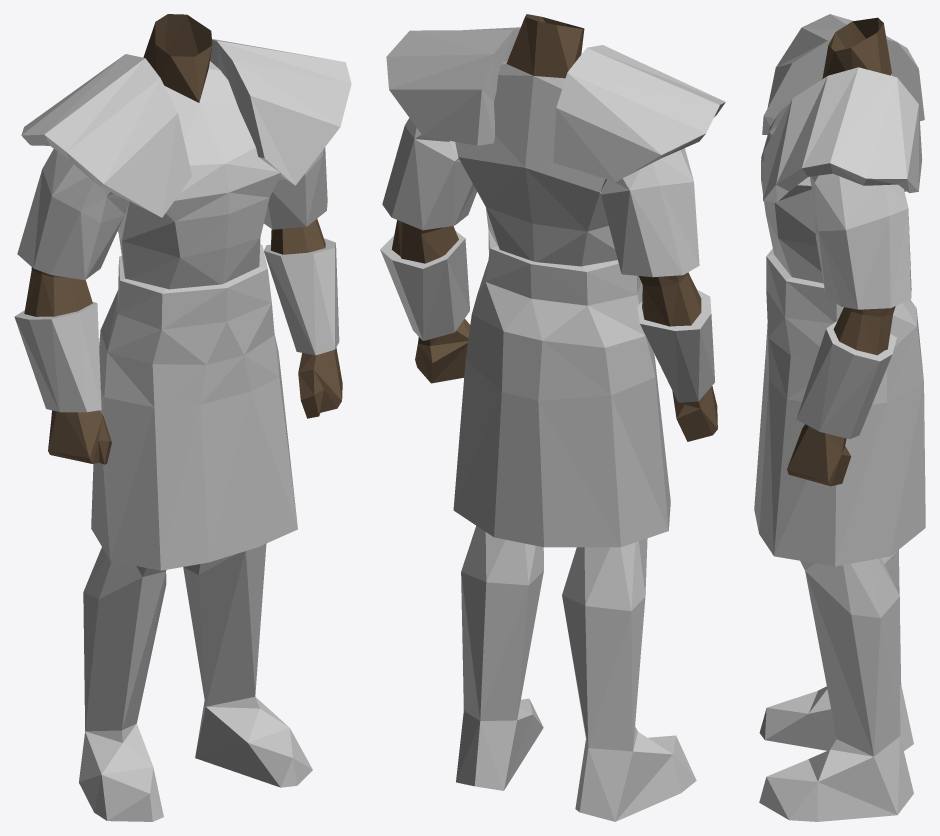
Rendered from ARMOR_CORANGAR.OBJ.
3 renders of one model, left to right at view 1: azimuth 30°, elevation 25°; view 2: azimuth 150°, elevation 25°; view 3: azimuth 270°, elevation 25°, orthographic. The views are drawn at different scales.
Parts seen in each view (by area): view 1: ARMOR_CORANGAR; view 2: ARMOR_CORANGAR; view 3: ARMOR_CORANGAR.
Part boxes in pixels (x1=…): ARMOR_CORANGAR: x1=14, y1=14, x2=351, y2=821; ARMOR_CORANGAR: x1=380, y1=14, x2=725, y2=821; ARMOR_CORANGAR: x1=754, y1=14, x2=925, y2=821.
Bounding box in the file's own units: 0.7326 × 1.69 × 0.3477.
